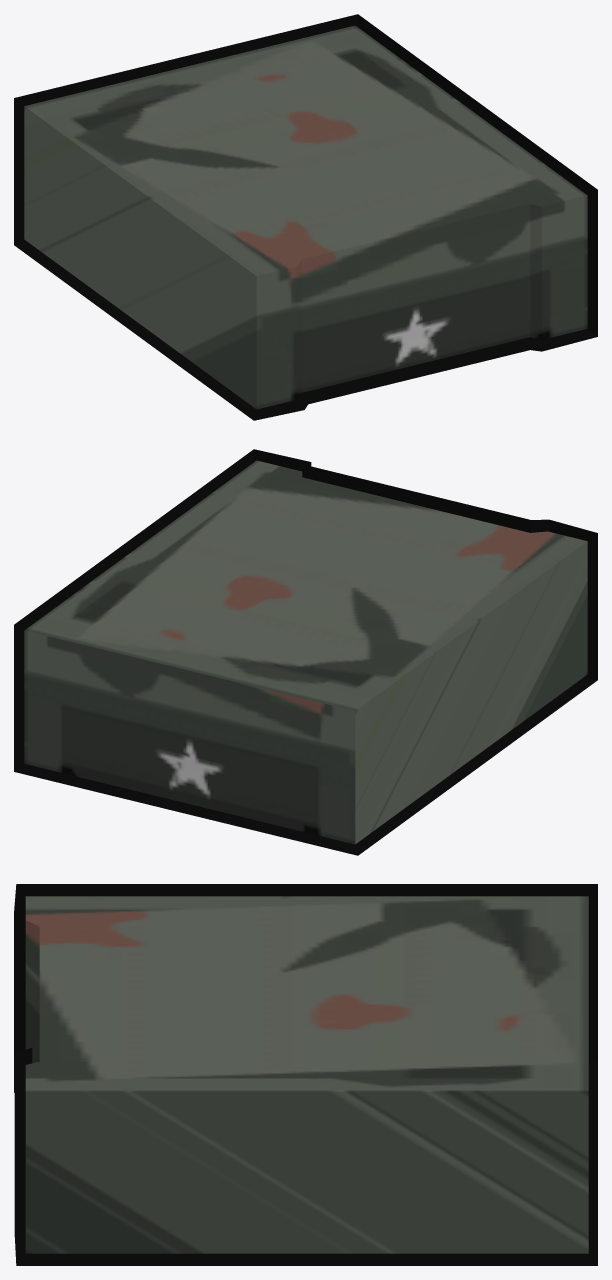
Rendered from Building_AncientMilitaryCrate_Things_Building_Ruins_AncientMilitaryCrate_AncientMilitaryCrateG.glb.
3 views of the same model, one above another, from view 1: azimuth 30°, elevation 25°; view 2: azimuth 150°, elevation 25°; view 3: azimuth 270°, elevation 25° (orthographic). The views are drawn at different scales.
Parts seen in each view (by area): view 1: Body, Outline; view 2: Body, Outline; view 3: Body, Outline.
Boxes of the visible parts, bbox=[...] form: Body: bbox=[24, 25, 587, 409]; Outline: bbox=[14, 14, 597, 420]; Body: bbox=[24, 460, 587, 844]; Outline: bbox=[14, 449, 597, 855]; Body: bbox=[25, 896, 588, 1253]; Outline: bbox=[14, 884, 597, 1265].
Bounding box in the file's own units: 0.9423 × 0.4014 × 1.14.
2 materials, 1 textured.
